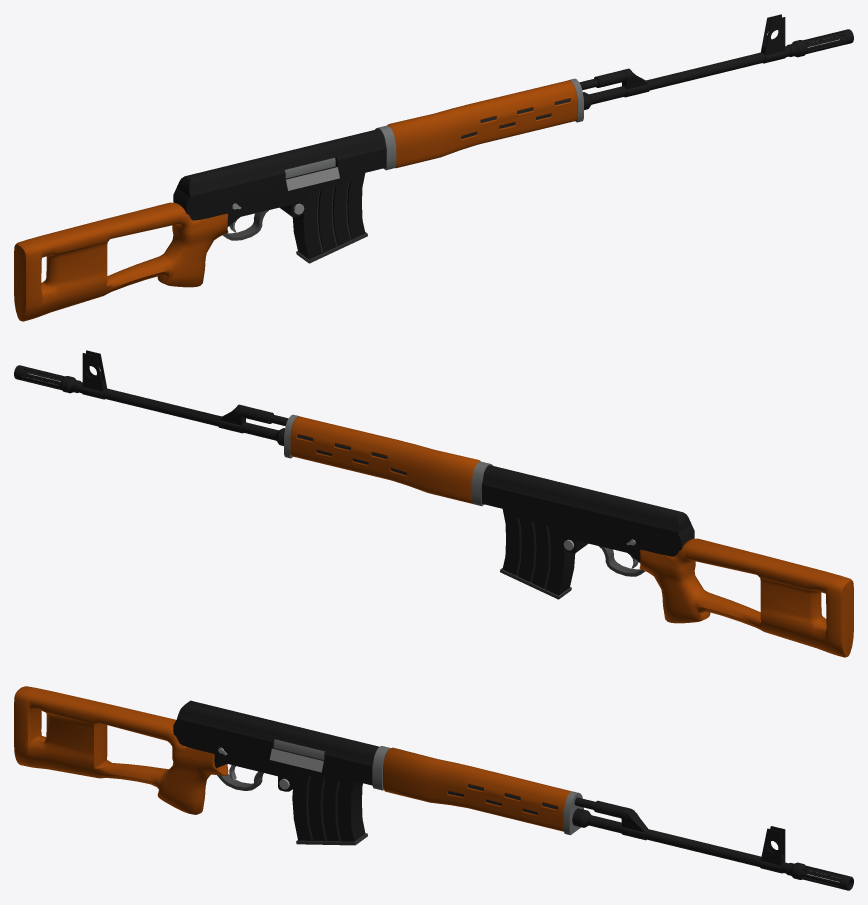
File: SVD_Drogunov_Mesh.fbx
The picture shows the model from 3 angles, top to bottom: view 1: azimuth 30°, elevation 25°; view 2: azimuth 150°, elevation 25°; view 3: azimuth 330°, elevation 25°; orthographic projection.
Visible parts, largest first — view 1: SVD_Drogunov; view 2: SVD_Drogunov; view 3: SVD_Drogunov.
Boxes of the visible parts, <box> form: SVD_Drogunov: <box>14,14,853,321</box>; SVD_Drogunov: <box>14,350,853,657</box>; SVD_Drogunov: <box>14,686,853,890</box>.
Bounding box in the file's own units: 0.9154 × 0.1327 × 0.0336.
